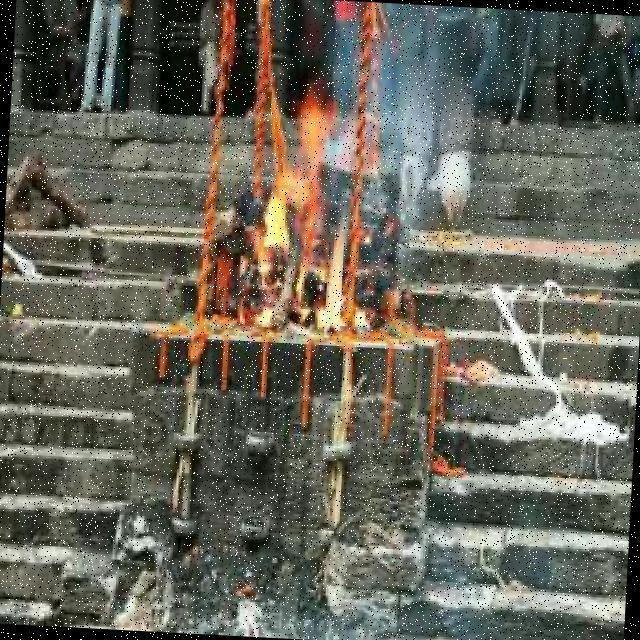fire: (249, 78, 366, 344)
